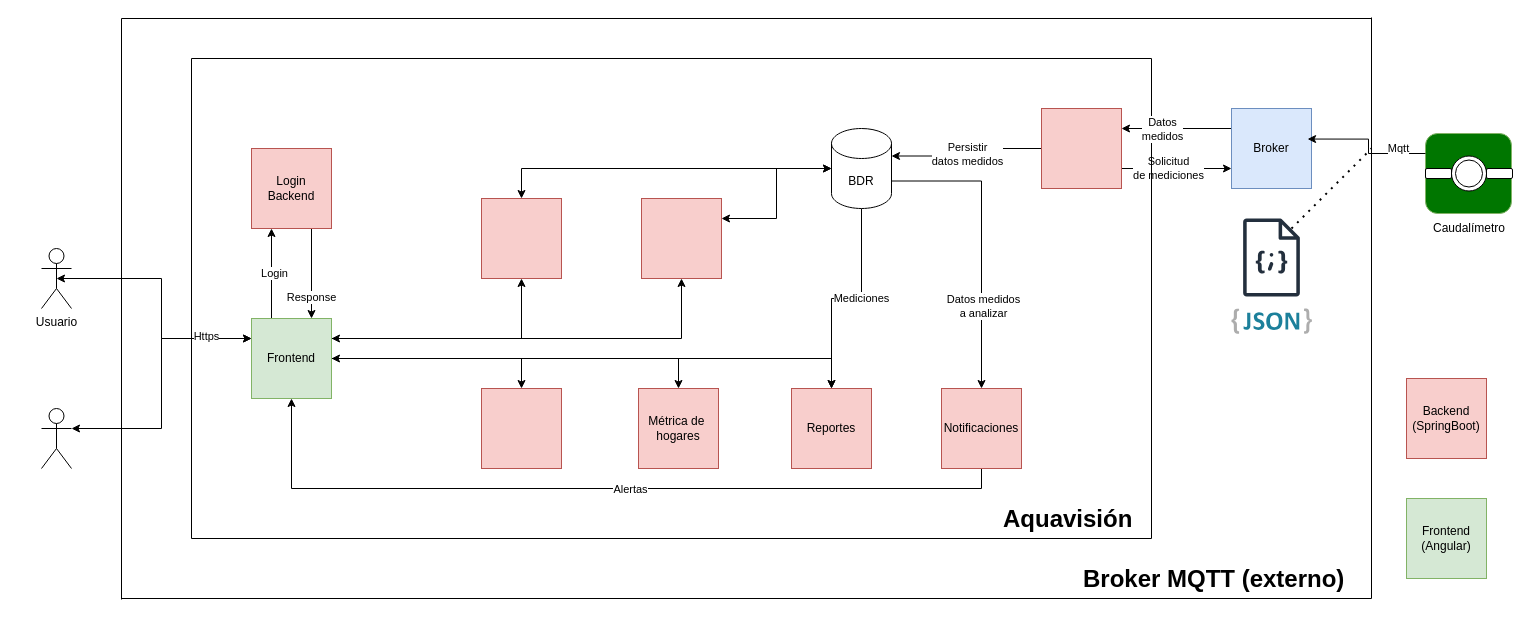
This 1530x629 diagram has some shape labels left out. Here are the shapes that lost their labels. From the top down, the centre of each, then its label:
At (1081,148): "Listener".
At (521,238): "Gamificación".
At (681,238): "Eventos".
At (56,438): "Usuario Admin".
At (521,428): "Predicción".
